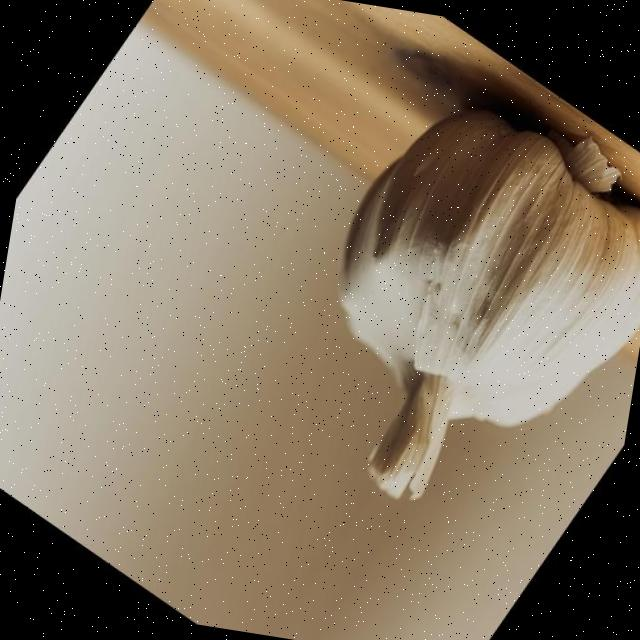garlic: (339, 110, 640, 497)
